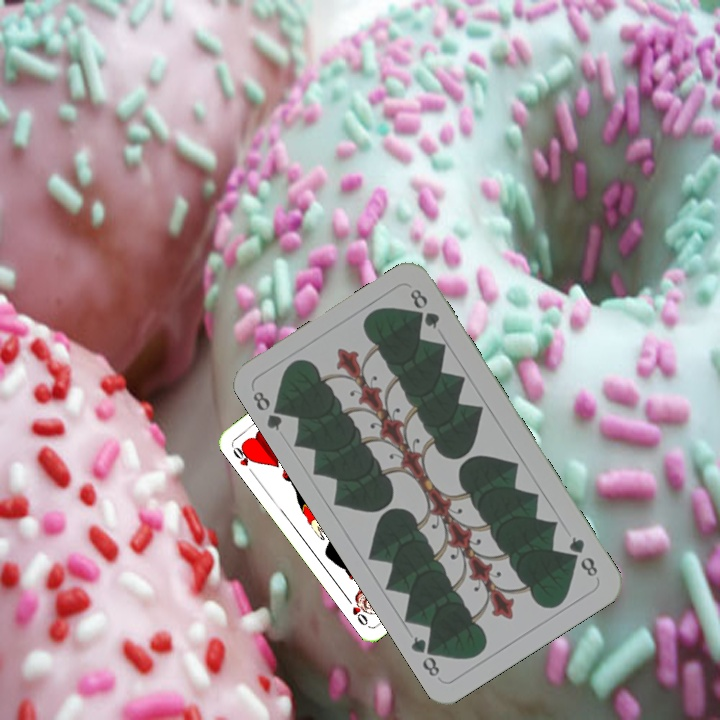G8: (248, 387, 290, 434), (564, 532, 601, 580)
HO: (228, 441, 258, 477)
